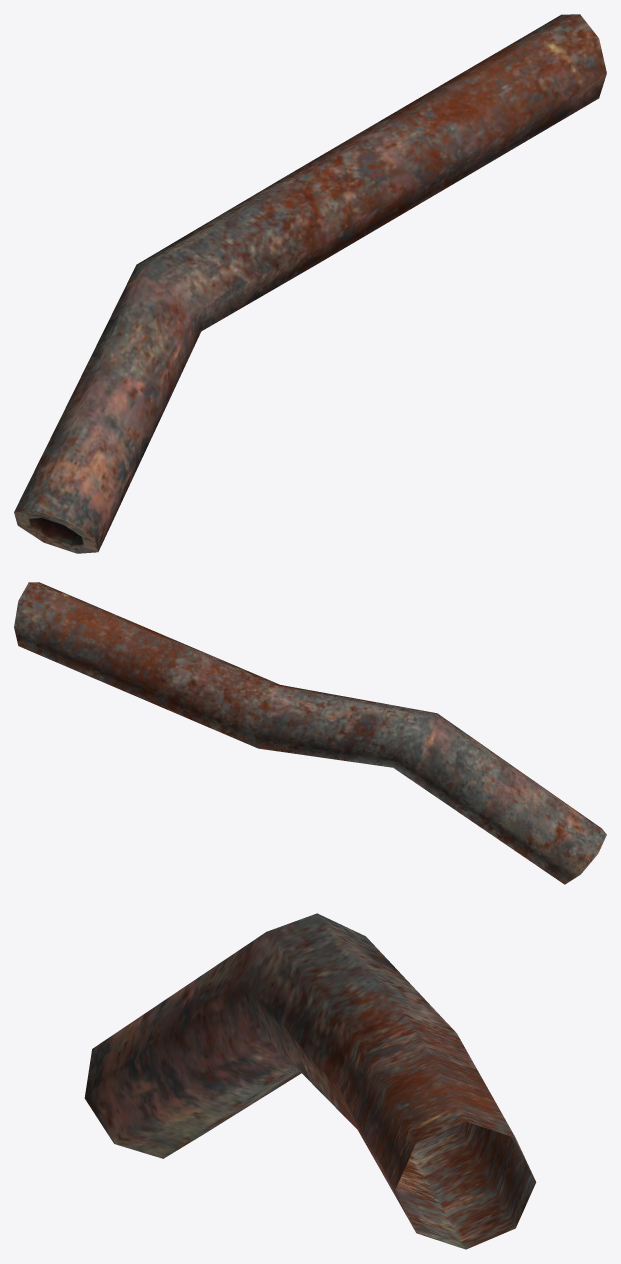
File: Pipe_Broken_02.FBX
3 renders of one model, top to bottom at view 1: azimuth 30°, elevation 25°; view 2: azimuth 150°, elevation 25°; view 3: azimuth 270°, elevation 25°, orthographic. The views are drawn at different scales.
Parts seen in each view (by area): view 1: Pipe_Broken_02; view 2: Pipe_Broken_02; view 3: Pipe_Broken_02.
Part boxes in pixels (x1,y1,x2,y2): Pipe_Broken_02: (14, 14, 606, 553); Pipe_Broken_02: (14, 582, 606, 884); Pipe_Broken_02: (84, 913, 536, 1249).
Bounding box in the file's own units: 655 × 301 × 256.
